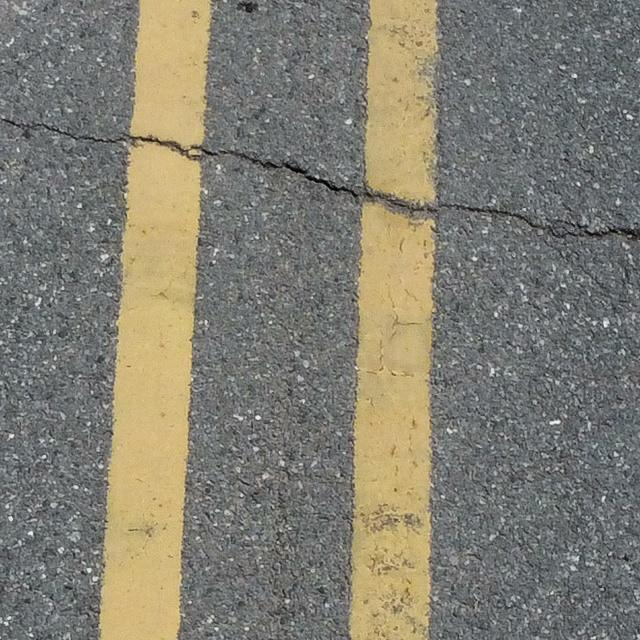TransverseCrack: (1, 117, 640, 243)
